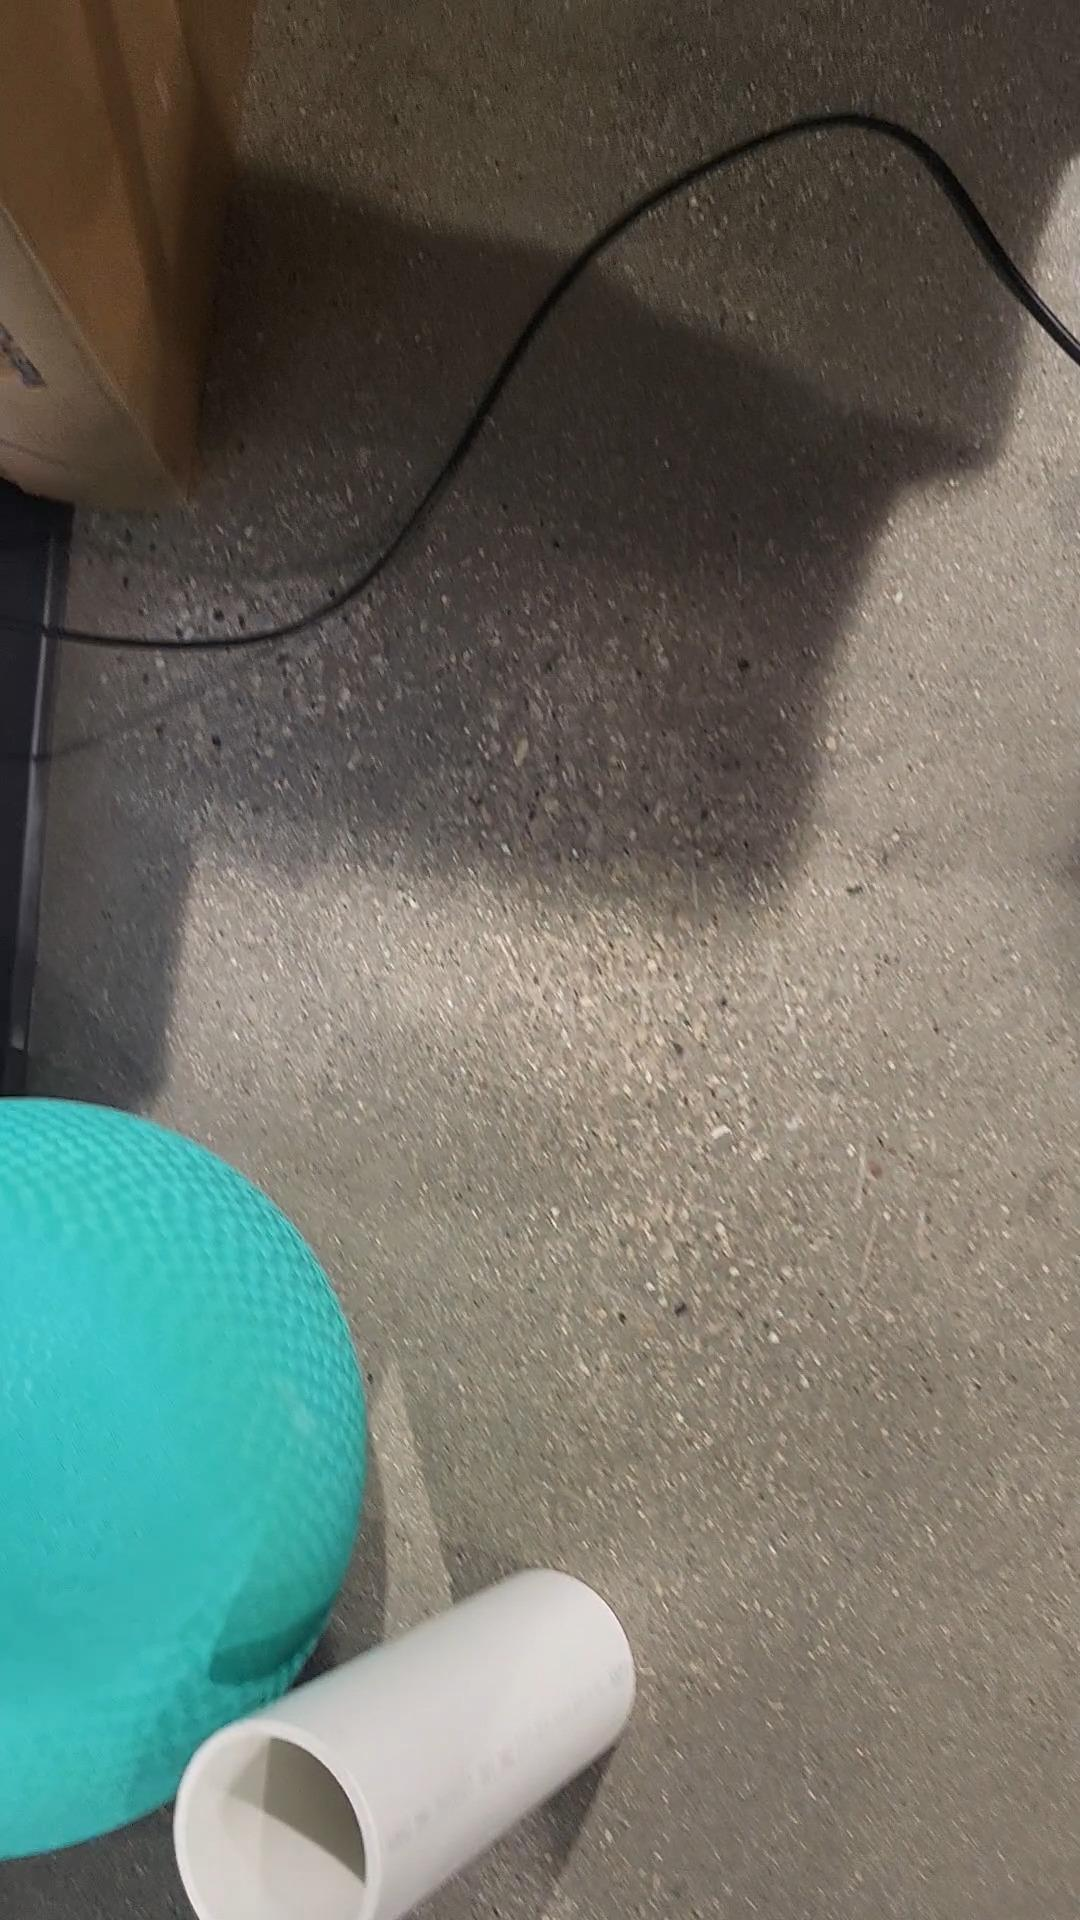algae: (0, 1102, 368, 1862)
coral: (170, 1572, 640, 1920)
